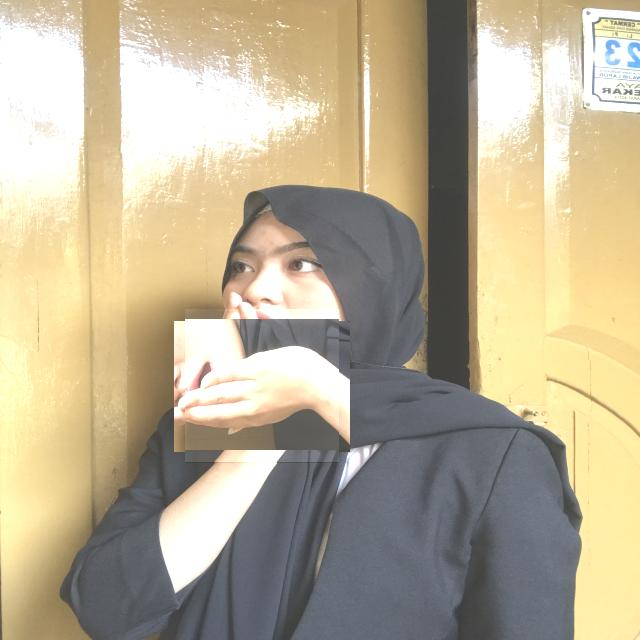ngantuk: (185, 310, 339, 464)
